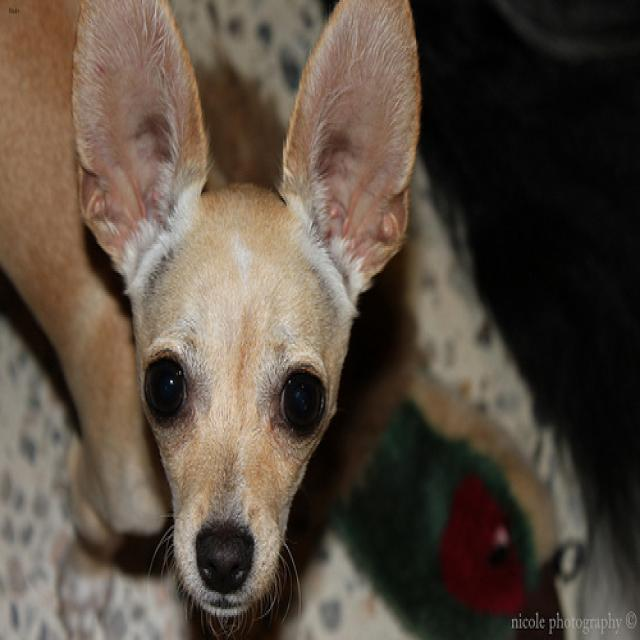dog-chihuahua: (1, 2, 429, 636)
